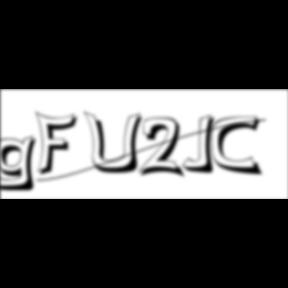2: (139, 117, 189, 181)
C: (212, 115, 266, 178)
F: (35, 110, 83, 178)
J: (182, 114, 222, 176)
U: (84, 110, 148, 176)
g: (0, 134, 44, 194)
